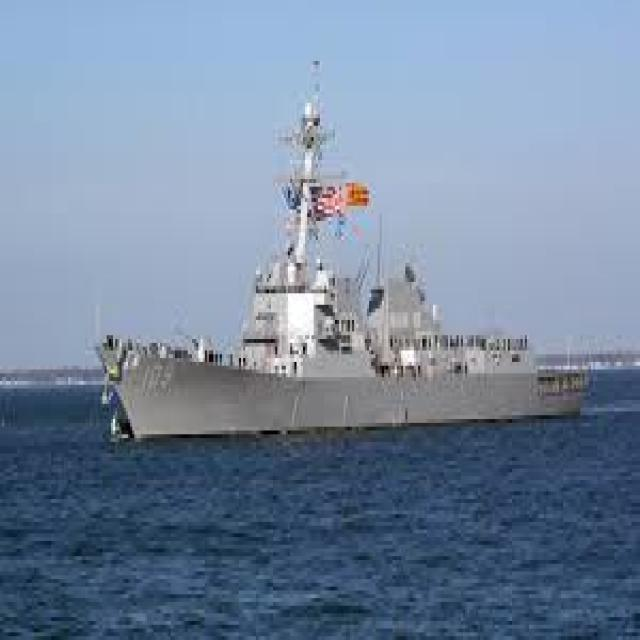navalvessels: (93, 65, 598, 458)
